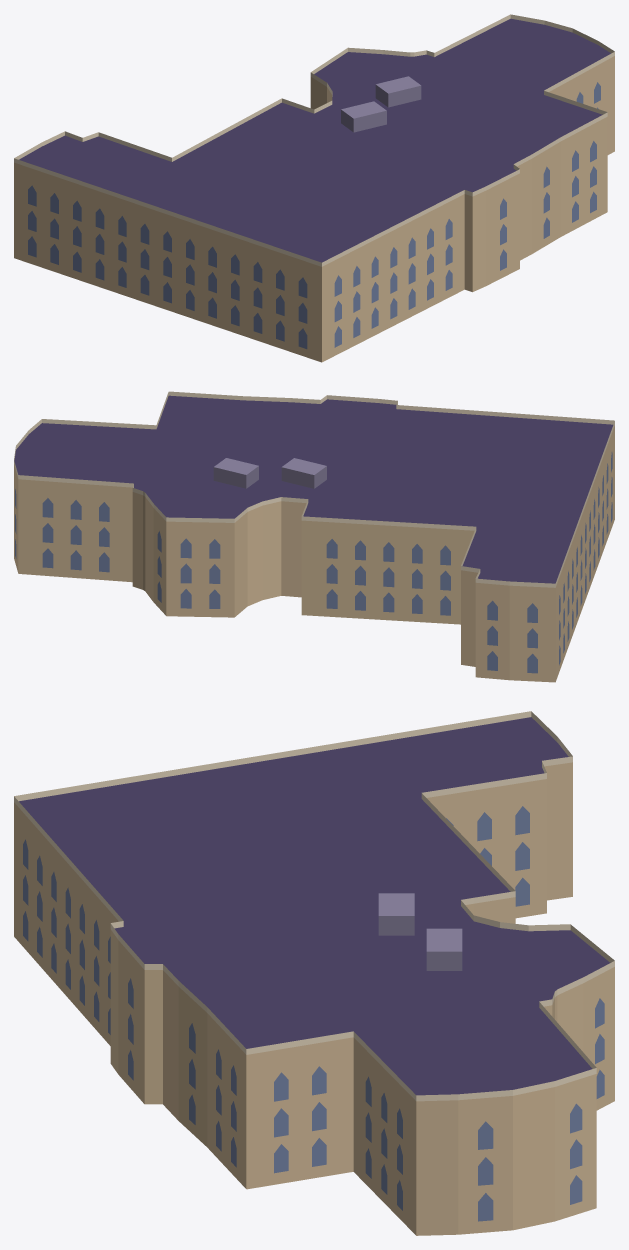
The model's file is b-089-western-science-centre-day.glb.
3 renders of one model, top to bottom at view 1: azimuth 30°, elevation 25°; view 2: azimuth 150°, elevation 25°; view 3: azimuth 270°, elevation 25°, orthographic. The views are drawn at different scales.
Parts seen in each view (by area): view 1: campus/b-089-western-science-centre-day-0; view 2: campus/b-089-western-science-centre-day-0; view 3: campus/b-089-western-science-centre-day-0.
Part boxes in pixels (left/top/right/bottom): campus/b-089-western-science-centre-day-0: left=14, top=14, right=614, bottom=362; campus/b-089-western-science-centre-day-0: left=14, top=391, right=614, bottom=682; campus/b-089-western-science-centre-day-0: left=14, top=711, right=614, bottom=1235.
Bounding box in the file's own units: 75.98 × 14.2 × 50.22.
